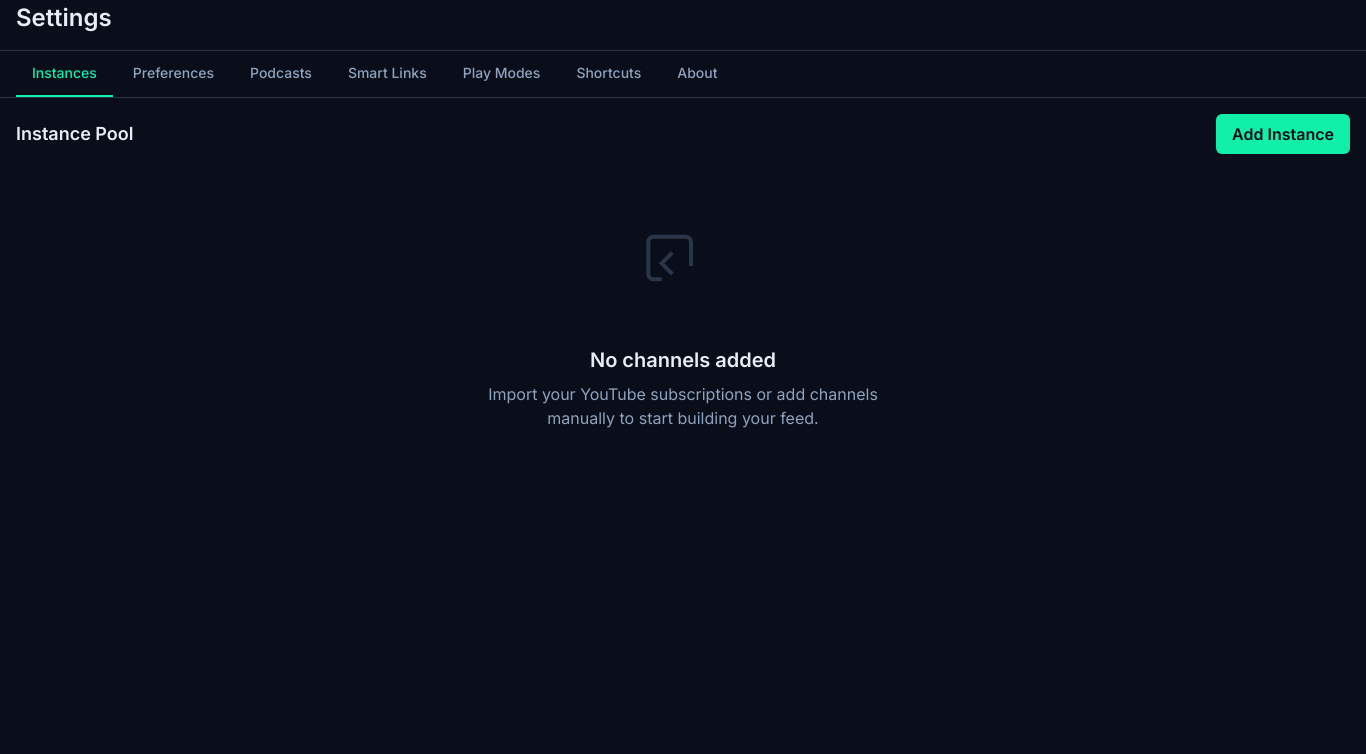
Settings → Play Modes rule editor (D7) › lists each subscribed channel with its seeded rules and modes
Click the tab "Play Modes" at (502, 74), box [447, 51, 556, 97]
(page scrolled)
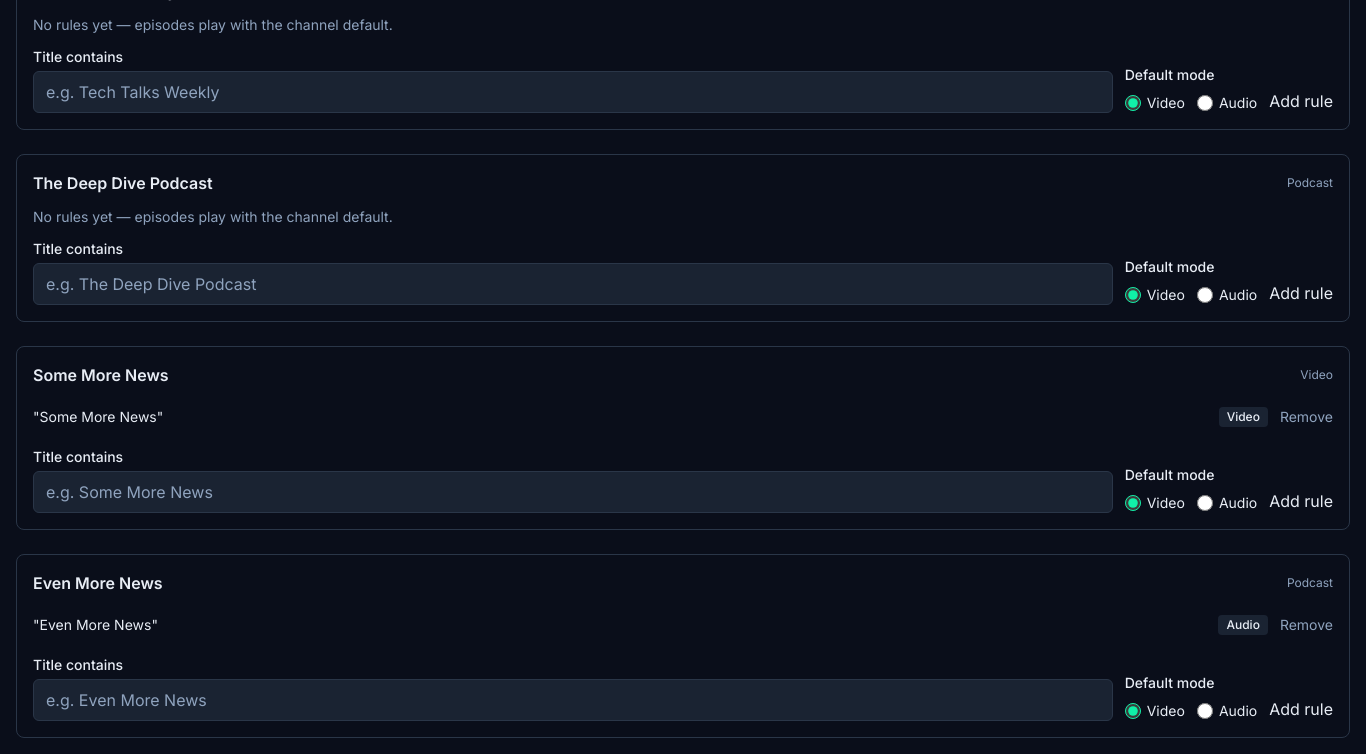
Check: the element named "Play mode rules for Some More News" is shown, box [16, 346, 1350, 530]
Check: the list item "\"Some More News\"" shows "video", box [1227, 409, 1260, 424]
